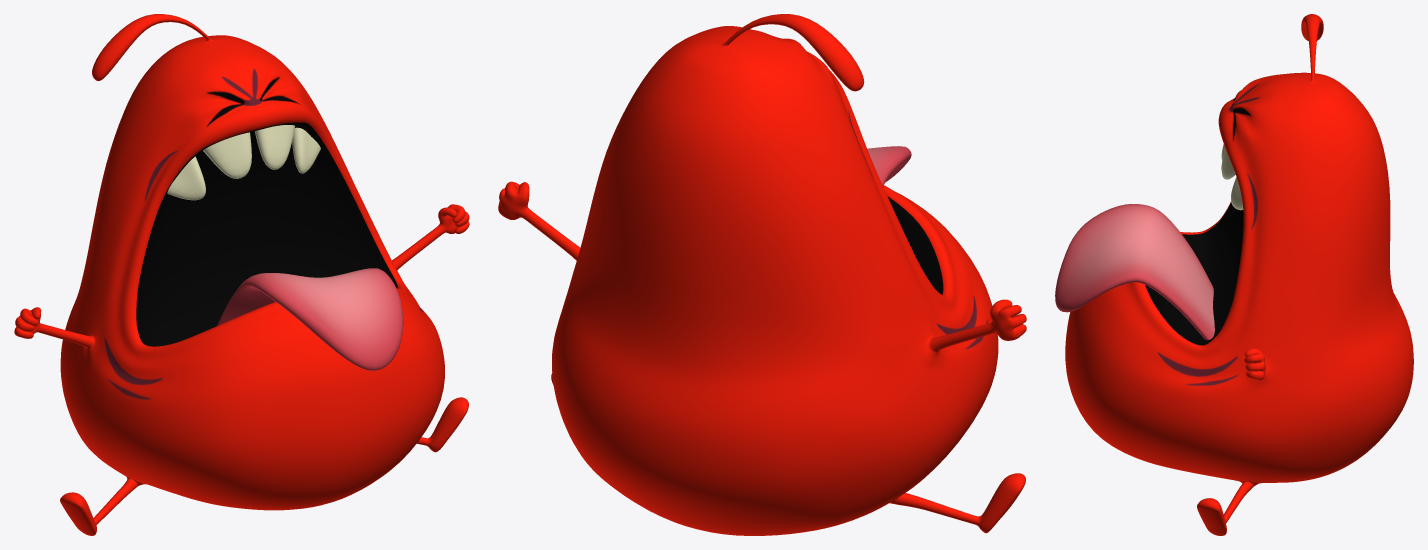
The model's file is cute1.glb.
The picture shows the model from 3 angles, left to right: view 1: azimuth 30°, elevation 25°; view 2: azimuth 150°, elevation 25°; view 3: azimuth 270°, elevation 25°; orthographic projection. The views are drawn at different scales.
Visible parts, largest first — view 1: node_id145; view 2: node_id145; view 3: node_id145.
Part boxes in pixels (<box>): node_id145: <box>14,14,469,535</box>; node_id145: <box>498,14,1026,535</box>; node_id145: <box>1055,14,1413,535</box>.
Bounding box in the file's own units: 0.512 × 0.4921 × 0.3858.
Materials: 1 (1 with a texture image).
